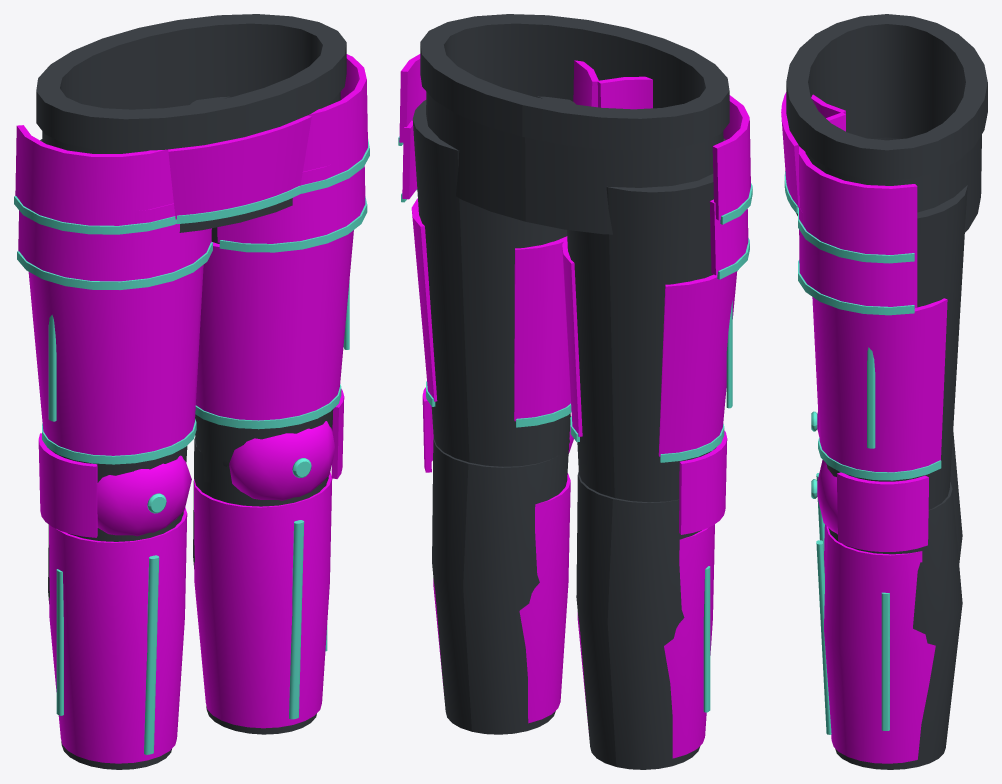
Rendered from porte_armure5_jambieres.glb.
3 views of the same model, side by side, from view 1: azimuth 30°, elevation 25°; view 2: azimuth 150°, elevation 25°; view 3: azimuth 270°, elevation 25° (orthographic). The views are drawn at different scales.
Parts seen in each view (by area): view 1: cuisse_d__jambieres_teinte.010, jambe_d__jambieres_teinte.010, bassin__jambieres_teinte_sombre.008, cuisse_g__jambieres_teinte.010, jambe_g__jambieres_teinte.010, bassin__jambieres_teinte.010, cuisse_d__jambieres_nano_lueur.002, cuisse_g__jambieres_nano_lueur.002, cuisse_g__jambieres_teinte_sombre.008, jambe_d__jambieres_nano_lueur.002, jambe_g__jambieres_nano_lueur.002, jambe_g__jambieres_teinte_sombre.008 (+3 smaller); view 2: bassin__jambieres_teinte_sombre.008, cuisse_d__jambieres_teinte_sombre.008, cuisse_g__jambieres_teinte_sombre.008, jambe_g__jambieres_teinte_sombre.008, jambe_d__jambieres_teinte_sombre.008, cuisse_d__jambieres_teinte.010, cuisse_g__jambieres_teinte.010, jambe_d__jambieres_teinte.010, jambe_g__jambieres_teinte.010, cuisse_d__jambieres_nano_lueur.002, jambe_d__jambieres_nano_lueur.002, cuisse_g__jambieres_nano_lueur.002; view 3: cuisse_g__jambieres_teinte.010, bassin__jambieres_teinte_sombre.008, jambe_g__jambieres_teinte.010, jambe_g__jambieres_teinte_sombre.008, cuisse_g__jambieres_teinte_sombre.008, cuisse_g__jambieres_nano_lueur.002, jambe_g__jambieres_nano_lueur.002, bassin__jambieres_teinte.010, jambe_d__jambieres_teinte_sombre.008.
Boxes of the visible parts, x1=… form: cuisse_d__jambieres_teinte.010: x1=15, y1=125, x2=211, y2=455; jambe_d__jambieres_teinte.010: x1=38, y1=433, x2=191, y2=763; bassin__jambieres_teinte_sombre.008: x1=36, y1=14, x2=346, y2=232; cuisse_g__jambieres_teinte.010: x1=196, y1=54, x2=367, y2=420; jambe_g__jambieres_teinte.010: x1=194, y1=389, x2=344, y2=728; bassin__jambieres_teinte.010: x1=168, y1=115, x2=311, y2=219; cuisse_d__jambieres_nano_lueur.002: x1=14, y1=196, x2=212, y2=464; cuisse_g__jambieres_nano_lueur.002: x1=195, y1=139, x2=369, y2=429; cuisse_g__jambieres_teinte_sombre.008: x1=190, y1=96, x2=333, y2=502; jambe_d__jambieres_nano_lueur.002: x1=56, y1=493, x2=166, y2=754; jambe_g__jambieres_nano_lueur.002: x1=289, y1=458, x2=327, y2=719; jambe_g__jambieres_teinte_sombre.008: x1=193, y1=437, x2=326, y2=734; bassin__jambieres_teinte_sombre.008: x1=420, y1=14, x2=729, y2=234; cuisse_d__jambieres_teinte_sombre.008: x1=567, y1=139, x2=725, y2=502; cuisse_g__jambieres_teinte_sombre.008: x1=412, y1=96, x2=575, y2=486; jambe_g__jambieres_teinte_sombre.008: x1=432, y1=438, x2=569, y2=734; jambe_d__jambieres_teinte_sombre.008: x1=576, y1=472, x2=701, y2=769; cuisse_d__jambieres_teinte.010: x1=562, y1=76, x2=750, y2=456; cuisse_g__jambieres_teinte.010: x1=399, y1=54, x2=598, y2=421; jambe_d__jambieres_teinte.010: x1=577, y1=430, x2=727, y2=758; jambe_g__jambieres_teinte.010: x1=422, y1=387, x2=573, y2=723; cuisse_d__jambieres_nano_lueur.002: x1=570, y1=183, x2=752, y2=462; jambe_d__jambieres_nano_lueur.002: x1=703, y1=566, x2=710, y2=712; cuisse_g__jambieres_nano_lueur.002: x1=398, y1=136, x2=571, y2=427; cuisse_g__jambieres_teinte.010: x1=798, y1=112, x2=947, y2=472; bassin__jambieres_teinte_sombre.008: x1=786, y1=14, x2=987, y2=232; jambe_g__jambieres_teinte.010: x1=817, y1=460, x2=935, y2=763; jambe_g__jambieres_teinte_sombre.008: x1=828, y1=482, x2=962, y2=769; cuisse_g__jambieres_teinte_sombre.008: x1=826, y1=185, x2=967, y2=553; cuisse_g__jambieres_nano_lueur.002: x1=798, y1=207, x2=941, y2=480; jambe_g__jambieres_nano_lueur.002: x1=811, y1=479, x2=889, y2=734; bassin__jambieres_teinte.010: x1=781, y1=92, x2=799, y2=207; jambe_d__jambieres_teinte_sombre.008: x1=950, y1=432, x2=962, y2=563.
Size of the model in its own units: 0.4379 by 0.83 by 0.246.
